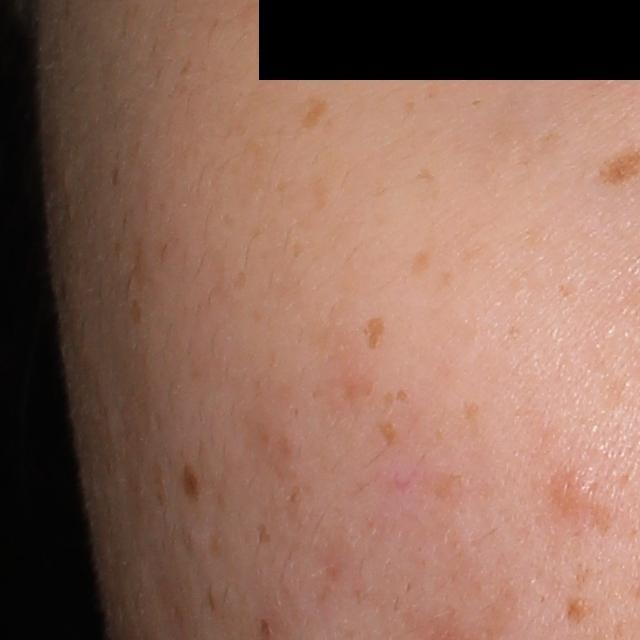melasma: (297, 92, 330, 133), (360, 315, 388, 353), (405, 244, 434, 279), (376, 418, 398, 451), (411, 163, 441, 187), (394, 388, 410, 405)
papule: (547, 462, 590, 514)
